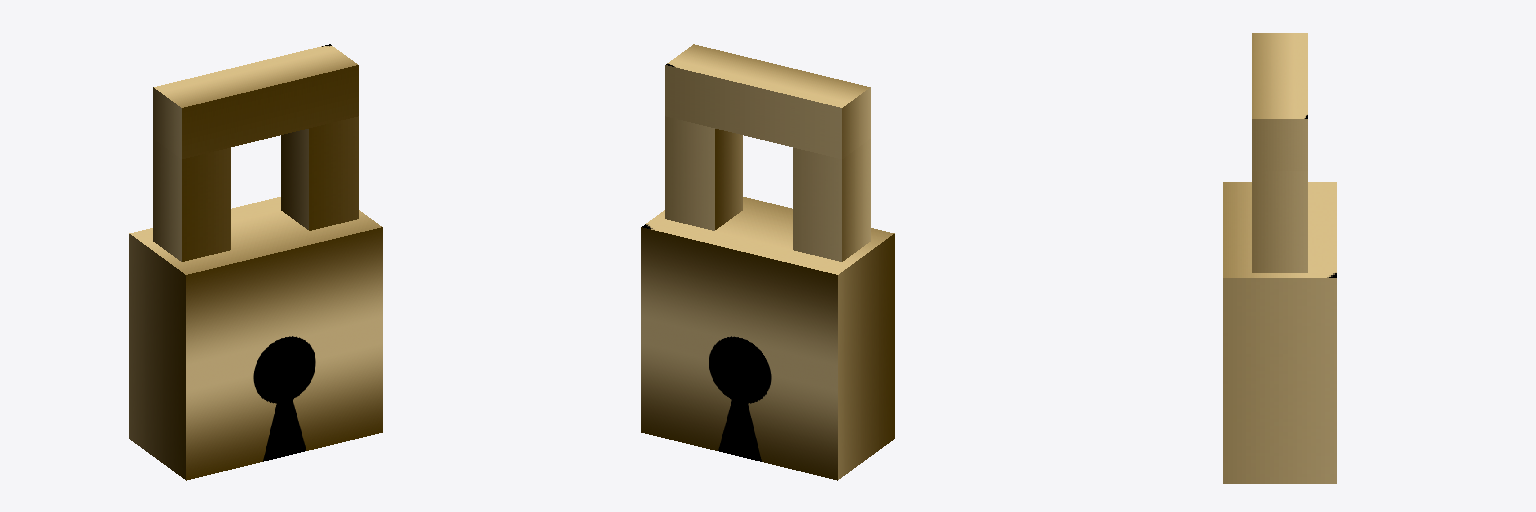
3 views of the same model, side by side, from view 1: azimuth 30°, elevation 25°; view 2: azimuth 150°, elevation 25°; view 3: azimuth 270°, elevation 25° (orthographic).
Parts seen in each view (by area): view 1: Cube, Cube.001; view 2: Cube, Cube.001; view 3: Cube, Cube.001.
Part boxes in pixels (x1,y1,x2,y2): Cube: (129, 197, 382, 480); Cube.001: (153, 44, 358, 261); Cube: (641, 197, 894, 480); Cube.001: (665, 44, 870, 261); Cube: (1223, 182, 1336, 483); Cube.001: (1252, 33, 1307, 272).
Bounding box in the file's own units: 0.4 × 0.7 × 0.2.
Materials: 4 (1 with a texture image).